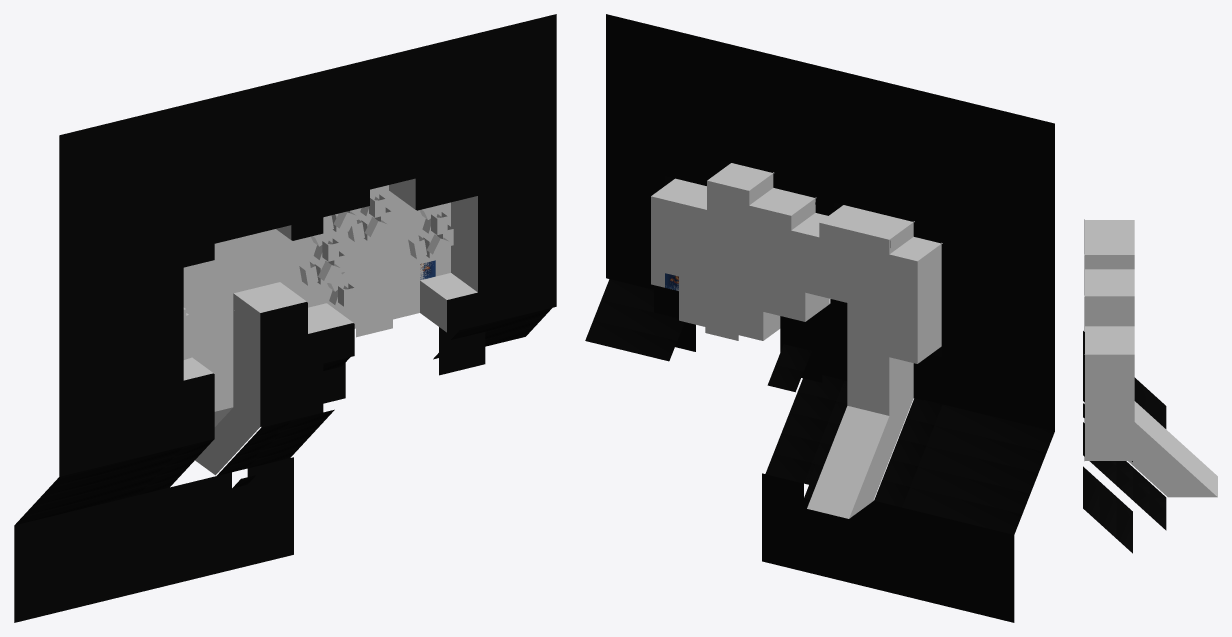
Rendered from Sewer-Main_00_04.obj.
3 renders of one model, left to right at view 1: azimuth 30°, elevation 25°; view 2: azimuth 150°, elevation 25°; view 3: azimuth 270°, elevation 25°, orthographic. The views are drawn at different scales.
Parts seen in each view (by area): view 1: map; view 2: map; view 3: map.
Boxes of the visible parts, box(x1,y1,x2,y2) form: map: box(14, 14, 556, 622); map: box(585, 14, 1054, 622); map: box(1083, 219, 1217, 553).
Size of the model in its own units: 32 by 32 by 8.1.
